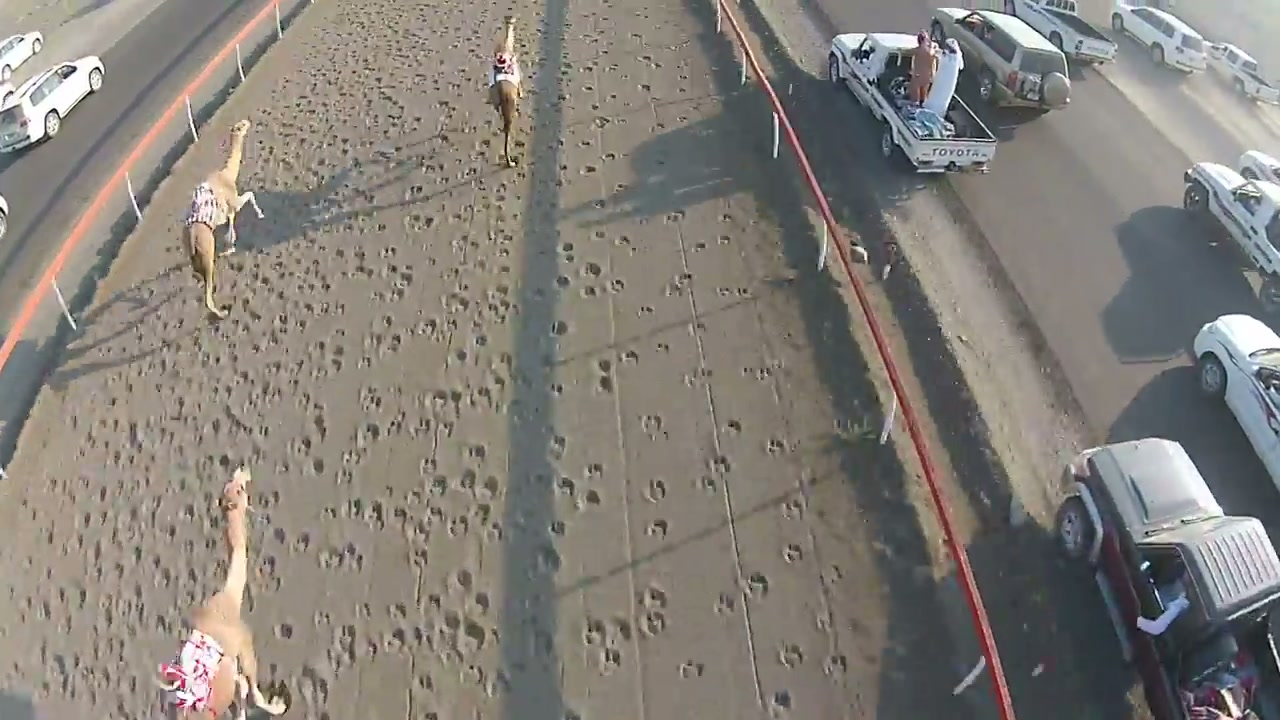animal_foot_print: (548, 58, 811, 698), (106, 176, 297, 684), (389, 112, 529, 719)
